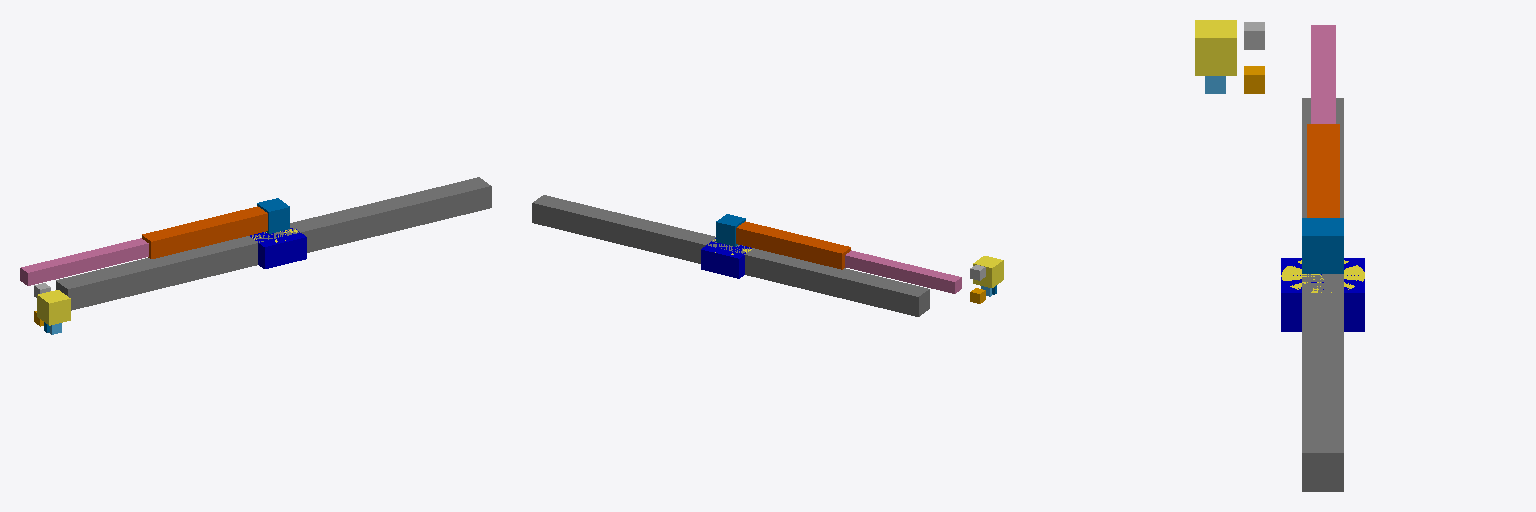
URDF robot description (kitting_sys):
<?xml version="1.0" encoding="UTF-8"?>
<robot name="kitting_sys">
  
  <material name="blue"><color rgba="0 0 0.8 1"/></material>
  <material name="grey"><color rgba="0.5 0.5 0.5 1"/></material>

  <link name="world"/>
  
  <link name="gantry">
    <visual><geometry><box size="2.0 0.1 0.1"/></geometry><material name="grey"/></visual>
    <inertial><mass value="1.0"/><inertia ixx="0.1" ixy="0.0" ixz="0.0" iyy="0.1" iyz="0.0" izz="0.1"/></inertial>
  </link>

  <joint name="world_gantry_joint" type="fixed">
    <parent link="world"/><child link="gantry"/><origin xyz="0. 0. 0." rpy="0. 0. 0."/>
  </joint>

  <link name="vagn">
    <visual><geometry><box size="0.2 0.2 0.1"/></geometry><material name="blue"/></visual>
    <inertial><mass value="1.0"/><inertia ixx="0.1" ixy="0.0" ixz="0.0" iyy="0.1" iyz="0.0" izz="0.1"/></inertial>
  </link>

  <joint name="gantry_vagn_joint" type="prismatic">
    <parent link="gantry"/><child link="vagn"/><axis xyz="1. 0. 0."/> 
    <limit lower="-3.1" upper="0.0" effort="10000." velocity="1.5"/>
    <origin xyz="0. 0. 0." rpy="0. 0. 0."/>
  </joint>

  <link name="base_link">
    <visual><geometry><cylinder length="0.1" radius="0.1"/></geometry></visual>
    <inertial><mass value="1.0"/><inertia ixx="0.1" ixy="0.0" ixz="0.0" iyy="0.1" iyz="0.0" izz="0.1"/></inertial>
  </link>

  <joint name="vagn_robot_joint" type="fixed">
    <parent link="vagn"/><child link="base_link"/><origin xyz="0. 0. 0." rpy="0. 0. 0."/>
  </joint>

  <link name="shoulder_link">
    <visual><geometry><box size="0.1 0.1 0.1"/></geometry></visual>
    <inertial><mass value="1.0"/><inertia ixx="0.1" ixy="0.0" ixz="0.0" iyy="0.1" iyz="0.0" izz="0.1"/></inertial>
  </link>
  <link name="upper_arm_link">
    <visual><origin xyz="-0.3 0 0"/><geometry><box size="0.6 0.08 0.08"/></geometry></visual>
    <inertial><mass value="1.0"/><inertia ixx="0.1" ixy="0.0" ixz="0.0" iyy="0.1" iyz="0.0" izz="0.1"/></inertial>
  </link>
  <link name="forearm_link">
    <visual><origin xyz="-0.28 0 0"/><geometry><box size="0.57 0.06 0.06"/></geometry></visual>
    <inertial><mass value="1.0"/><inertia ixx="0.1" ixy="0.0" ixz="0.0" iyy="0.1" iyz="0.0" izz="0.1"/></inertial>
  </link>
  <link name="wrist_1_link">
    <visual><geometry><box size="0.05 0.05 0.05"/></geometry></visual>
    <inertial><mass value="1.0"/><inertia ixx="0.1" ixy="0.0" ixz="0.0" iyy="0.1" iyz="0.0" izz="0.1"/></inertial>
  </link>
  <link name="wrist_2_link">
    <visual><geometry><box size="0.05 0.05 0.05"/></geometry></visual>
    <inertial><mass value="1.0"/><inertia ixx="0.1" ixy="0.0" ixz="0.0" iyy="0.1" iyz="0.0" izz="0.1"/></inertial>
  </link>
  <link name="wrist_3_link">
    <visual><geometry><box size="0.05 0.05 0.05"/></geometry></visual>
    <inertial><mass value="1.0"/><inertia ixx="0.1" ixy="0.0" ixz="0.0" iyy="0.1" iyz="0.0" izz="0.1"/></inertial>
  </link>
  <link name="ee_link">
    <visual><geometry><box size="0.02 0.02 0.02"/></geometry></visual>
    <inertial><mass value="1.0"/><inertia ixx="0.1" ixy="0.0" ixz="0.0" iyy="0.1" iyz="0.0" izz="0.1"/></inertial>
  </link>

  <joint name="shoulder_pan_joint" type="revolute">
    <origin xyz="0. 0. 0.1273" rpy="0. 0. 0."/> <parent link="base_link"/><child link="shoulder_link"/>
    <axis xyz="0. 0. 1."/><limit lower="-6.28" upper="6.28" effort="330." velocity="2.1"/>
  </joint>
  <joint name="shoulder_lift_joint" type="revolute">
    <origin xyz="0. 0. 0." rpy="1.5707 0. 0. "/><parent link="shoulder_link"/><child link="upper_arm_link"/>
    <axis xyz="0. 0. 1."/><limit lower="-6.28" upper="6.28" effort="330." velocity="2.1"/>
  </joint>
  <joint name="elbow_joint" type="revolute">
    <origin xyz="-0.612 0. 0. " rpy="0. 0. 0."/><parent link="upper_arm_link"/><child link="forearm_link"/>
    <axis xyz="0. 0. 1."/><limit lower="-3.14" upper="3.14" effort="150." velocity="3.14"/>
  </joint>
  <joint name="wrist_1_joint" type="revolute">
    <origin xyz="-0.5723 0. 0.1639" rpy="0. 0. 0."/><parent link="forearm_link"/><child link="wrist_1_link"/>
    <axis xyz="0. 0. 1."/><limit lower="-6.28" upper="6.28" effort="56." velocity="3.14"/>
  </joint>
  <joint name="wrist_2_joint" type="revolute">
    <origin xyz="0. -0.1157 0. " rpy="1.5707 0. 0. "/><parent link="wrist_1_link"/><child link="wrist_2_link"/>
    <axis xyz="0. 0. 1."/><limit lower="-6.28" upper="6.28" effort="56." velocity="3.14"/>
  </joint>
  <joint name="wrist_3_joint" type="revolute">
    <origin xyz="0. 0.0922 0. " rpy="-1.5707 0. 0."/><parent link="wrist_2_link"/><child link="wrist_3_link"/>
    <axis xyz="0. 0. 1."/><limit lower="-6.28" upper="6.28" effort="56." velocity="3.14"/>
  </joint>
  
  <joint name="ee_joint" type="fixed">
    <origin xyz="0. 0.082 0." rpy="1.5707 0. 0."/> 
    <parent link="wrist_3_link"/><child link="ee_link"/>
  </joint>

  <link name="robotiq_base_link">
    <visual><geometry><box size="0.1 0.1 0.1"/></geometry></visual>
  </link>

  <joint name="FixedJoint" type="fixed">
    <parent link="ee_link"/><child link="robotiq_base_link"/>
    <origin xyz="0.0 0.0 0.0" rpy="0.0 0.0 0.0"/>
  </joint>

  <link name="left_outer_knuckle">
    <visual><geometry><box size="0.02 0.02 0.1"/></geometry></visual>
  </link>

  <joint name="finger_joint" type="revolute">
    <parent link="robotiq_base_link"/><child link="left_outer_knuckle"/>
    <origin xyz="-0.03 0.0 0.05" rpy="0. 0. 0."/><axis xyz="0. 1. 0."/>
    <limit lower="0.0" upper="0.7" effort="100." velocity="0.5"/>
  </joint>

  </robot>

--- What the picture shows (computed from the rendered views, not written in the file) ---
The picture shows the robot from 3 angles, left to right: view 1: azimuth 30°, elevation 25°; view 2: azimuth 150°, elevation 25°; view 3: azimuth 270°, elevation 25°; orthographic projection.
Robot: kitting_sys — 13 links, 12 joints (7 revolute, 1 prismatic, 4 fixed); root link world; default pose: every joint at zero.
Links seen in each view (by area): view 1: gantry, upper_arm_link, forearm_link, vagn, robotiq_base_link, shoulder_link; view 2: gantry, upper_arm_link, forearm_link, vagn, robotiq_base_link, shoulder_link; view 3: gantry, upper_arm_link, vagn, forearm_link, shoulder_link, robotiq_base_link, base_link, wrist_1_link, wrist_2_link.
Boxes of the visible links, <box> form: gantry: <box>56,177,491,310</box>; upper_arm_link: <box>142,206,267,258</box>; forearm_link: <box>20,238,148,285</box>; vagn: <box>250,228,306,268</box>; robotiq_base_link: <box>37,290,70,325</box>; shoulder_link: <box>257,198,289,233</box>; gantry: <box>532,195,929,316</box>; upper_arm_link: <box>736,221,850,269</box>; forearm_link: <box>845,250,961,293</box>; vagn: <box>701,238,751,278</box>; robotiq_base_link: <box>973,256,1003,287</box>; shoulder_link: <box>716,214,745,246</box>; gantry: <box>1302,98,1343,491</box>; upper_arm_link: <box>1307,124,1339,217</box>; vagn: <box>1281,258,1364,331</box>; forearm_link: <box>1311,25,1335,123</box>; shoulder_link: <box>1302,218,1343,273</box>; robotiq_base_link: <box>1195,20,1236,75</box>; base_link: <box>1281,260,1364,292</box>; wrist_1_link: <box>1244,22,1264,49</box>; wrist_2_link: <box>1244,66,1264,93</box>.
Bounding box of the posed robot: 2.23 × 0.4061 × 0.2273 m (x, y, z).
Geometry: primitives only (box / cylinder / sphere), no mesh files.
